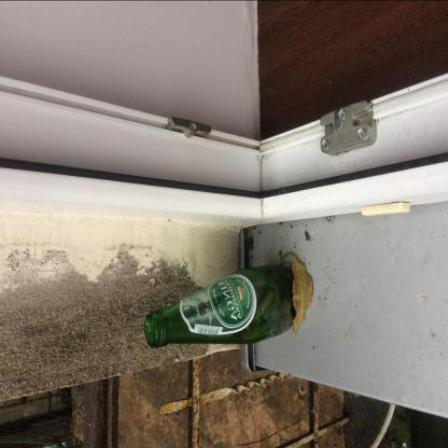Bottle: (145, 266, 298, 350)
